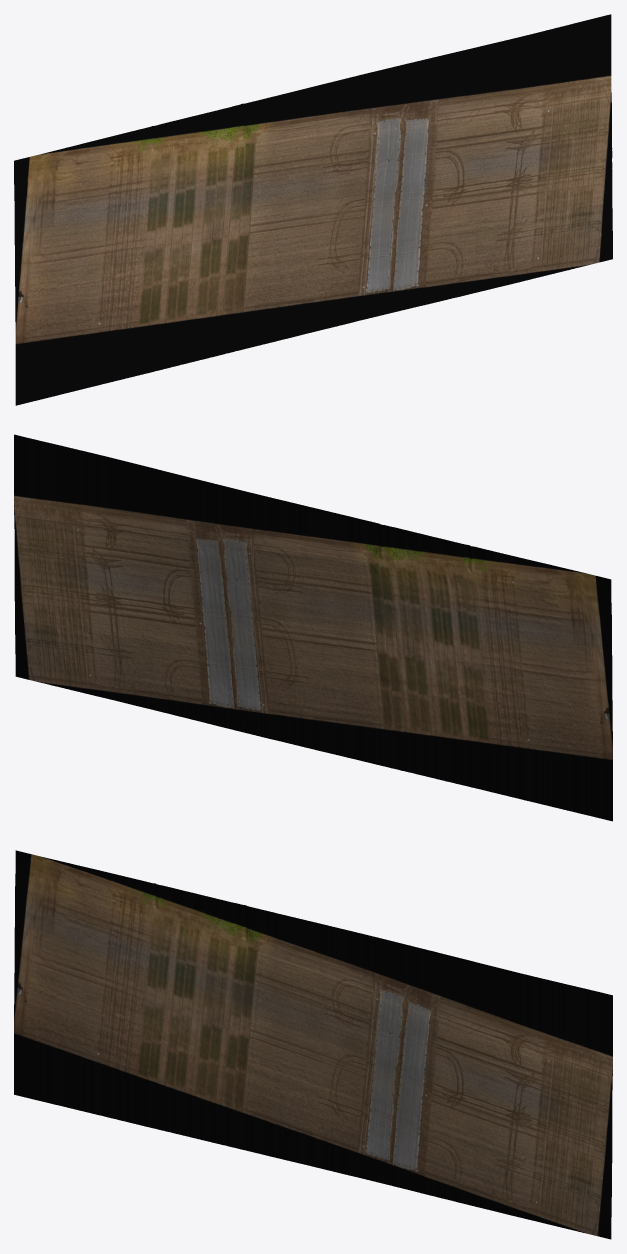
Rendered from must_c_field.obj.
The picture shows the model from 3 angles, top to bottom: view 1: azimuth 30°, elevation 25°; view 2: azimuth 150°, elevation 25°; view 3: azimuth 330°, elevation 25°; orthographic projection.
Bounding box in the file's own units: 181 × 70.65 × 1.54.
Materials: 1 (1 with a texture image).
